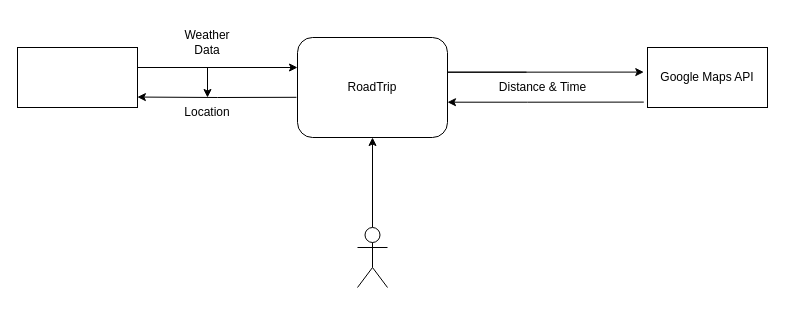
The diagram is 785 pixels wide and 325 high, and some of its shapes have lost their labels. The shapes that lost their labels are listed below. From the top down, each one's centre as x and y in pixels, then its label:
At point 77,77: "Weather API".
At point 372,257: "User (Traveler)".
